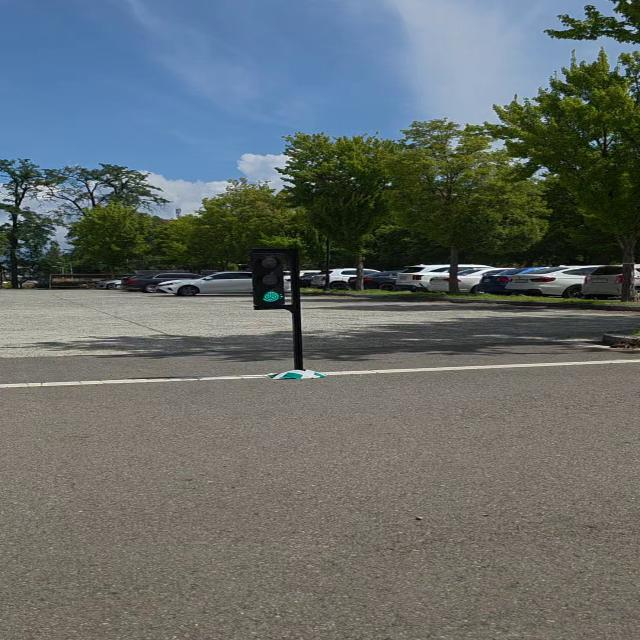green: (255, 248, 286, 311)
